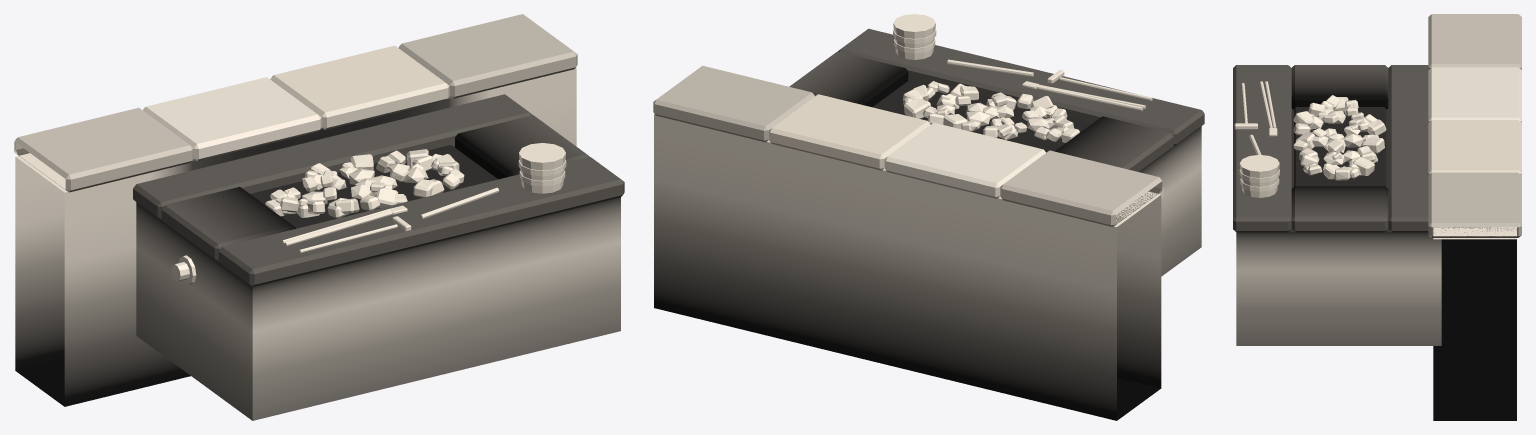
Rendered from SM_VKI_Wall_Stone_Forge_300_Cut.fbx.
3 views of the same model, side by side, from view 1: azimuth 30°, elevation 25°; view 2: azimuth 150°, elevation 25°; view 3: azimuth 270°, elevation 25° (orthographic). The views are drawn at different scales.
Parts seen in each view (by area): view 1: SM_VKI_Wall_Stone_Forge_300_Cut.001; view 2: SM_VKI_Wall_Stone_Forge_300_Cut.001; view 3: SM_VKI_Wall_Stone_Forge_300_Cut.001.
Boxes of the visible parts, x1,y1,x2,y2 form: SM_VKI_Wall_Stone_Forge_300_Cut.001: (14, 14, 624, 420); SM_VKI_Wall_Stone_Forge_300_Cut.001: (653, 14, 1204, 420); SM_VKI_Wall_Stone_Forge_300_Cut.001: (1233, 14, 1521, 420).
Bounding box in the file's own units: 3 × 1.33 × 1.73.
